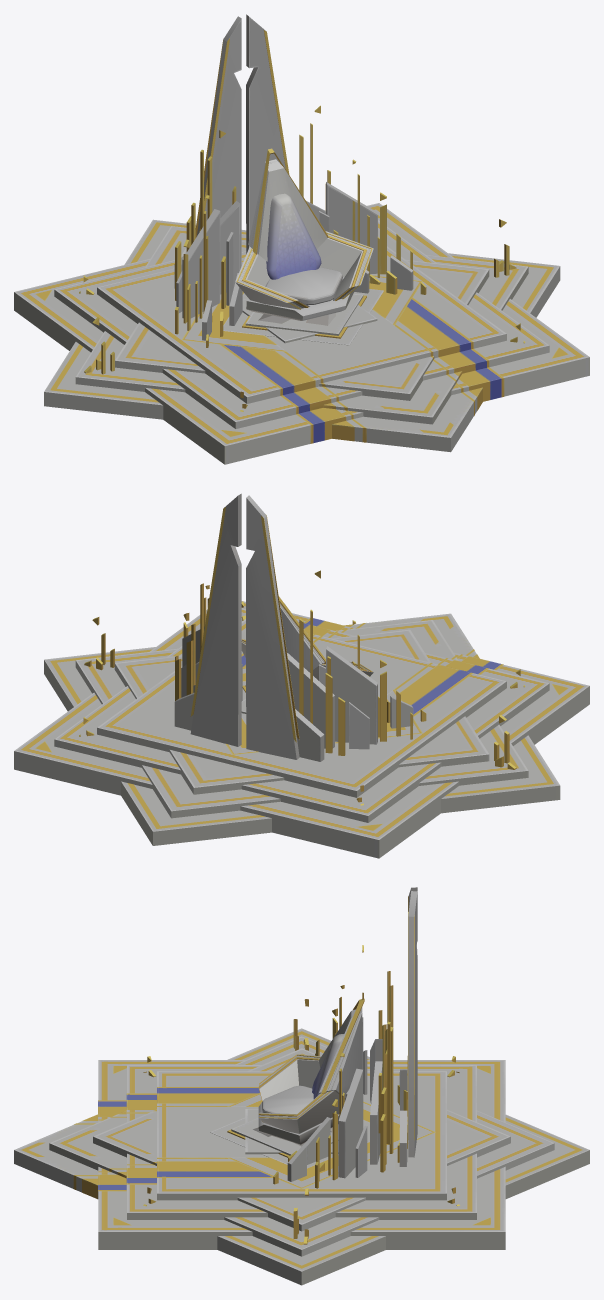
File: furn_ab2024_deco01.gltf
The picture shows the model from 3 angles, top to bottom: view 1: azimuth 30°, elevation 25°; view 2: azimuth 150°, elevation 25°; view 3: azimuth 270°, elevation 25°; orthographic projection. The views are drawn at different scales.
Parts seen in each view (by area): view 1: ab2024_deco01; view 2: ab2024_deco01; view 3: ab2024_deco01.
Part boxes in pixels (x1=…): ab2024_deco01: x1=14, y1=14, x2=589, y2=464; ab2024_deco01: x1=14, y1=493, x2=589, y2=858; ab2024_deco01: x1=14, y1=887, x2=589, y2=1285.
Bounding box in the file's own units: 3.69 × 1.94 × 3.69.
1 material, 1 textured.
